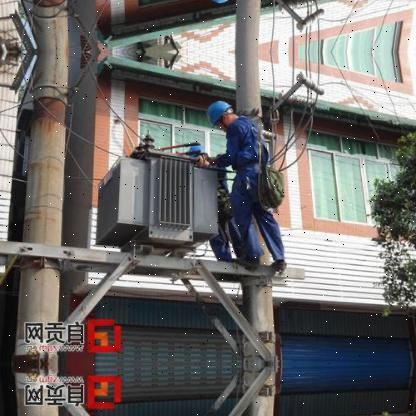helmet: (209, 100, 237, 127), (187, 141, 211, 165)
